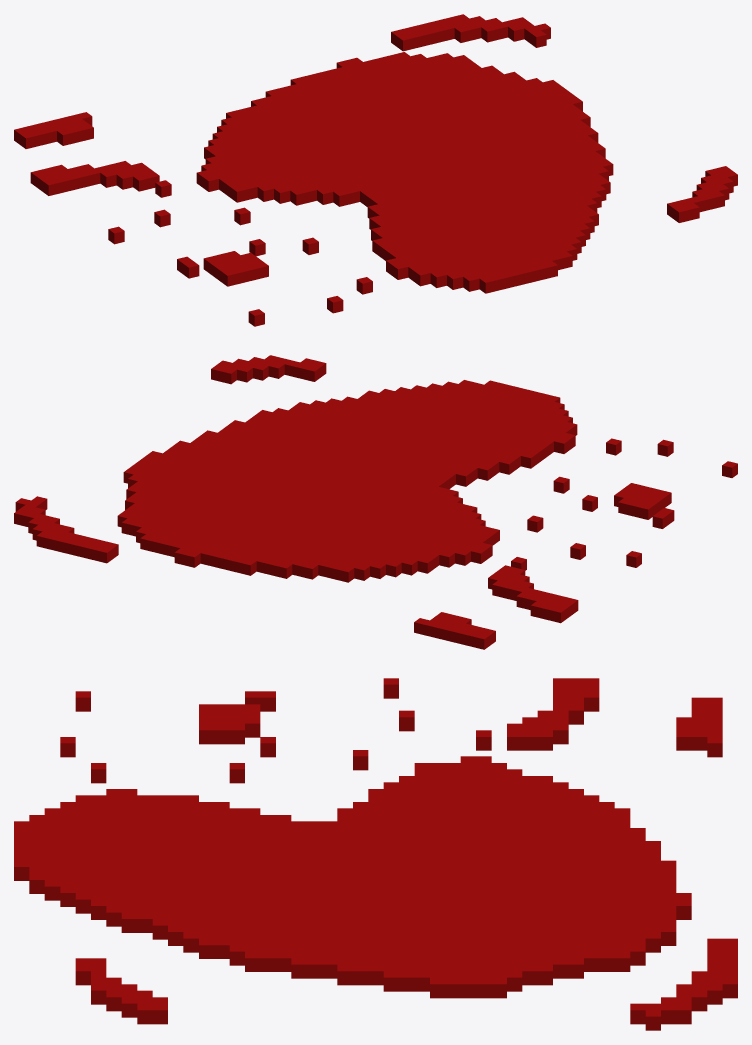
Rendered from Bloodstain.fbx.
3 views of the same model, one above another, from view 1: azimuth 30°, elevation 25°; view 2: azimuth 150°, elevation 25°; view 3: azimuth 270°, elevation 25° (orthographic). The views are drawn at different scales.
Parts seen in each view (by area): view 1: Matrix; view 2: Matrix; view 3: Matrix.
Part boxes in pixels (box(x1,y1,x2,y2)): Matrix: box(14, 14, 737, 326); Matrix: box(14, 355, 737, 649); Matrix: box(14, 678, 737, 1030).
Bounding box in the file's own units: 52 × 1 × 47.
Materials: 1 (1 with a texture image).
